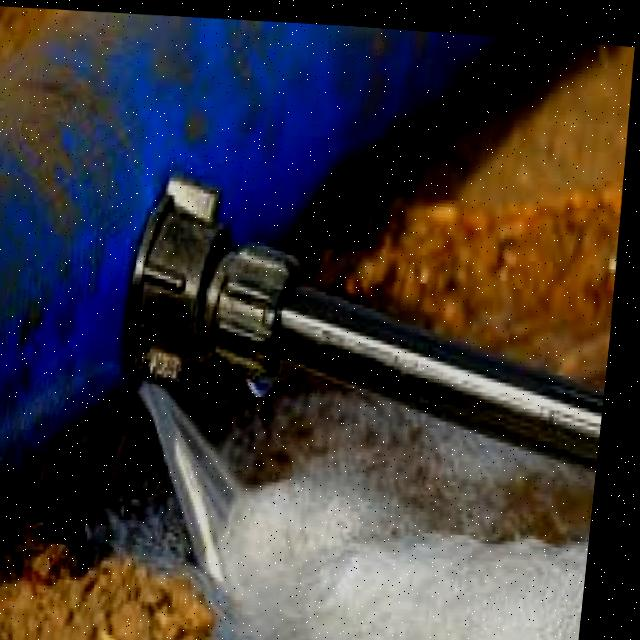corrosion: (61, 345, 196, 488)
